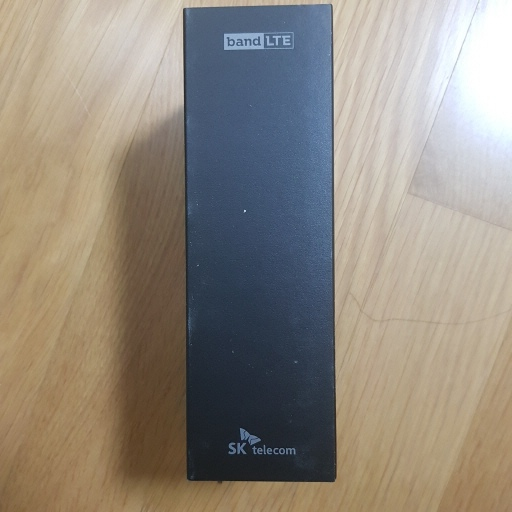Paper_0: (172, 3, 361, 500)
